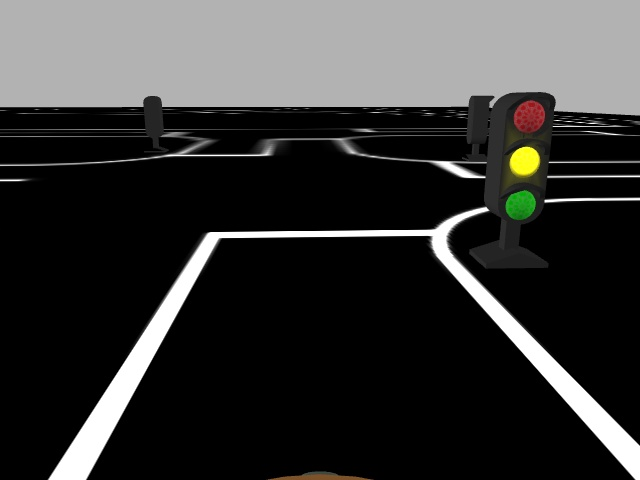yellow_light: (494, 92, 555, 224)
